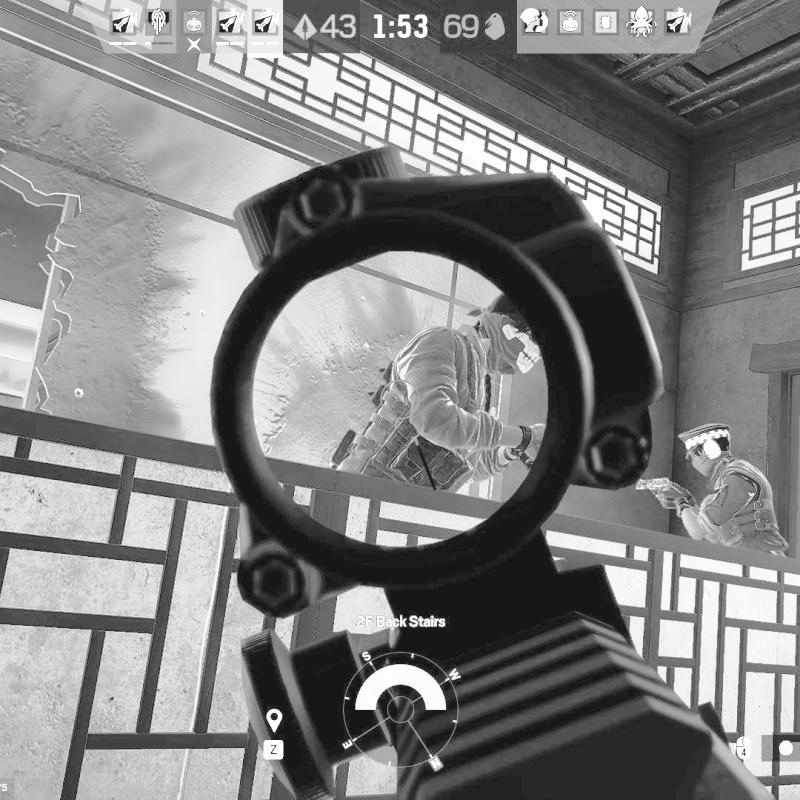Character: (320, 293, 554, 491), (635, 425, 794, 559)
Head: (472, 293, 548, 375), (679, 426, 731, 474)
